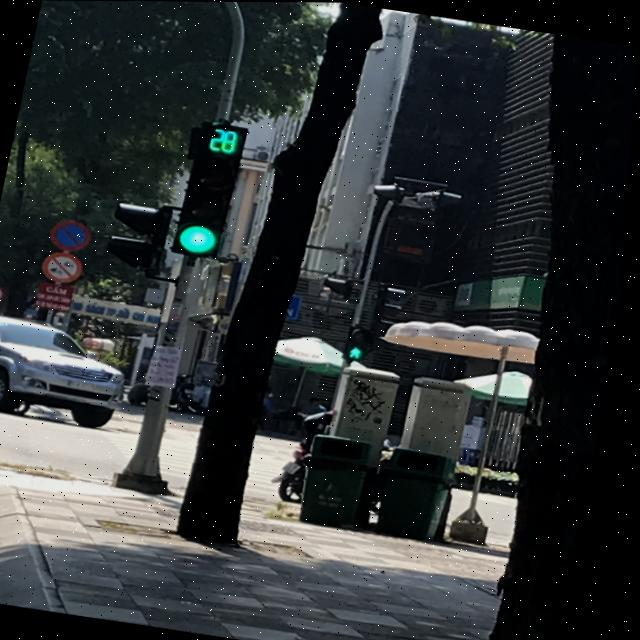Green: (167, 148, 259, 263)
